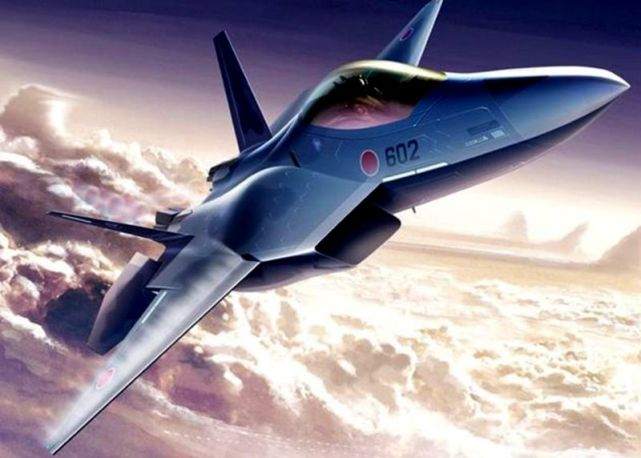airplane: (25, 1, 635, 452)
